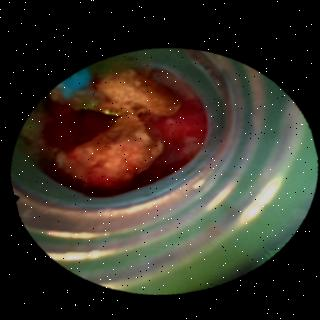stone: (47, 67, 181, 183)
